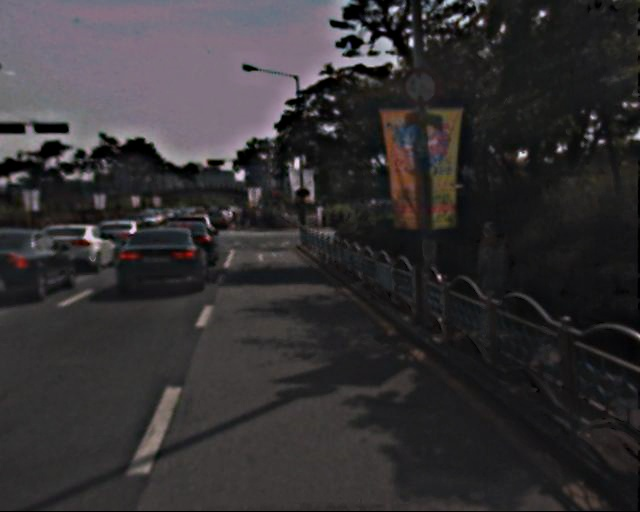person: (466, 218, 518, 339)
